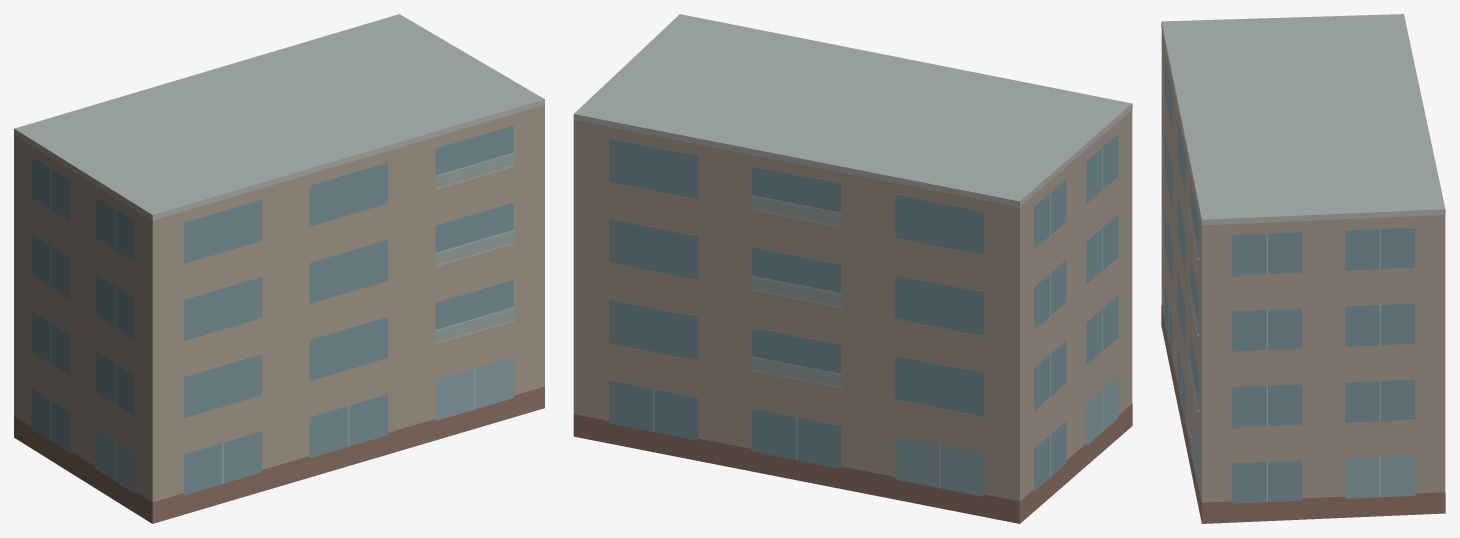
The model's file is survey-upis-32756418.glb.
3 renders of one model, left to right at view 1: azimuth 30°, elevation 25°; view 2: azimuth 150°, elevation 25°; view 3: azimuth 270°, elevation 25°, orthographic. The views are drawn at different scales.
Visible parts, largest first — view 1: survey-upis-32756418.tmp; view 2: survey-upis-32756418.tmp; view 3: survey-upis-32756418.tmp.
Part boxes in pixels (box(x1,y1,x2,y2)): survey-upis-32756418.tmp: box(14, 14, 544, 523); survey-upis-32756418.tmp: box(573, 14, 1132, 523); survey-upis-32756418.tmp: box(1161, 14, 1445, 523).
Bounding box in the file's own units: 19.16 × 13.2 × 11.18.
